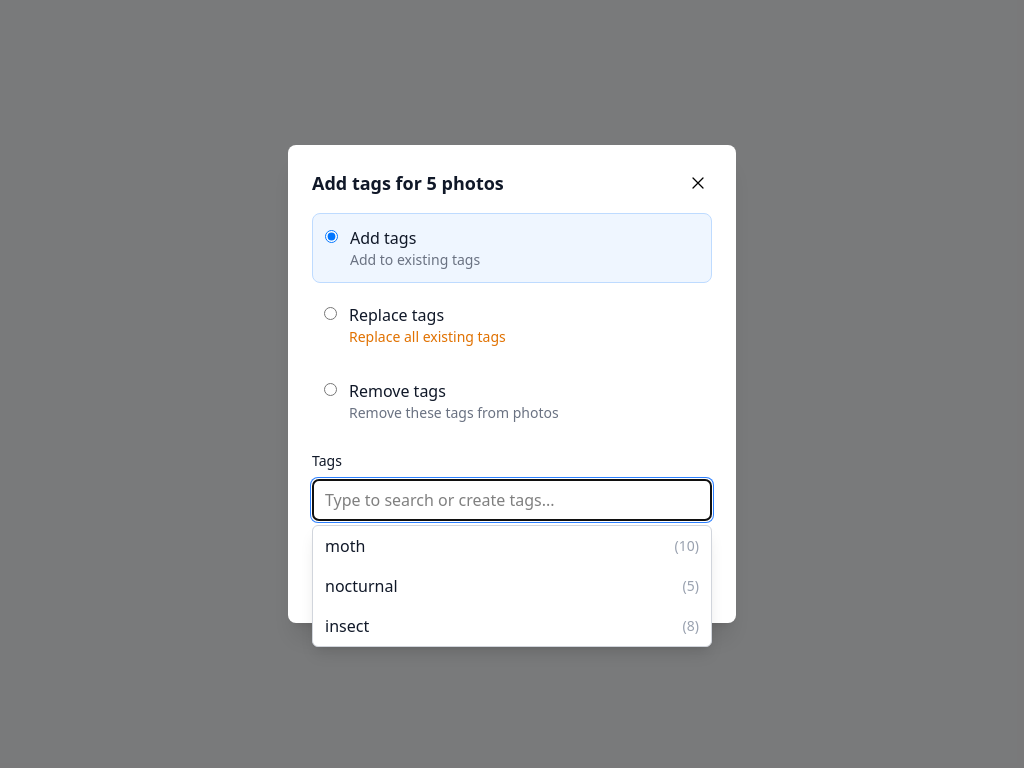
BulkTagModal › Mode Selector › clicking mode option selects it
Click the radio button labelled "Replace tags Replace all existing tags" at (330,314), box [324,307,337,320]
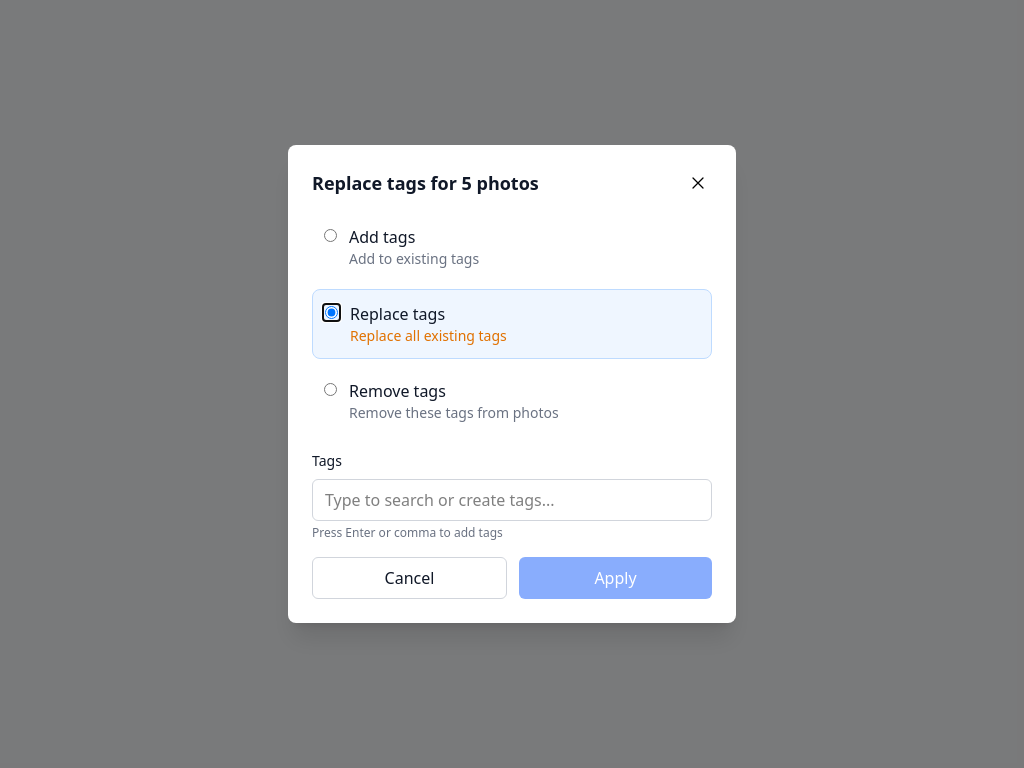
Result: the radio button labelled "Replace tags Replace all existing tags" is checked at [325,306,338,319]
Result: the radio button labelled "Add tags Add to existing tags" is not checked at [324,229,337,242]
